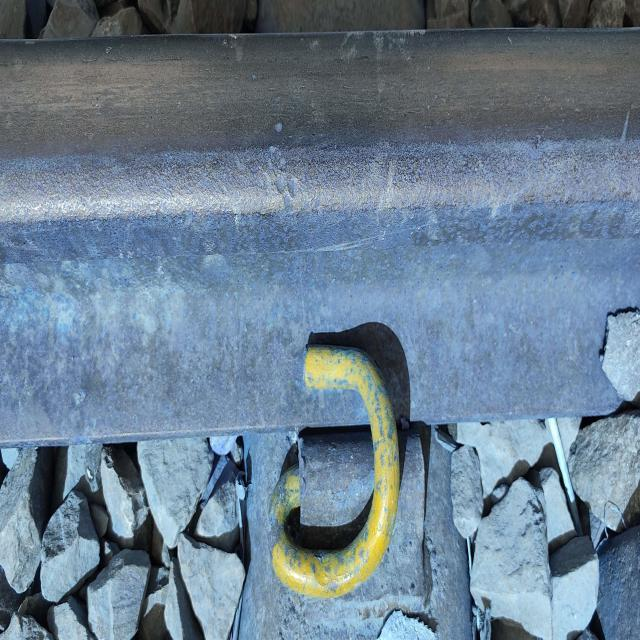Missing Fastener: (259, 324, 441, 640)
